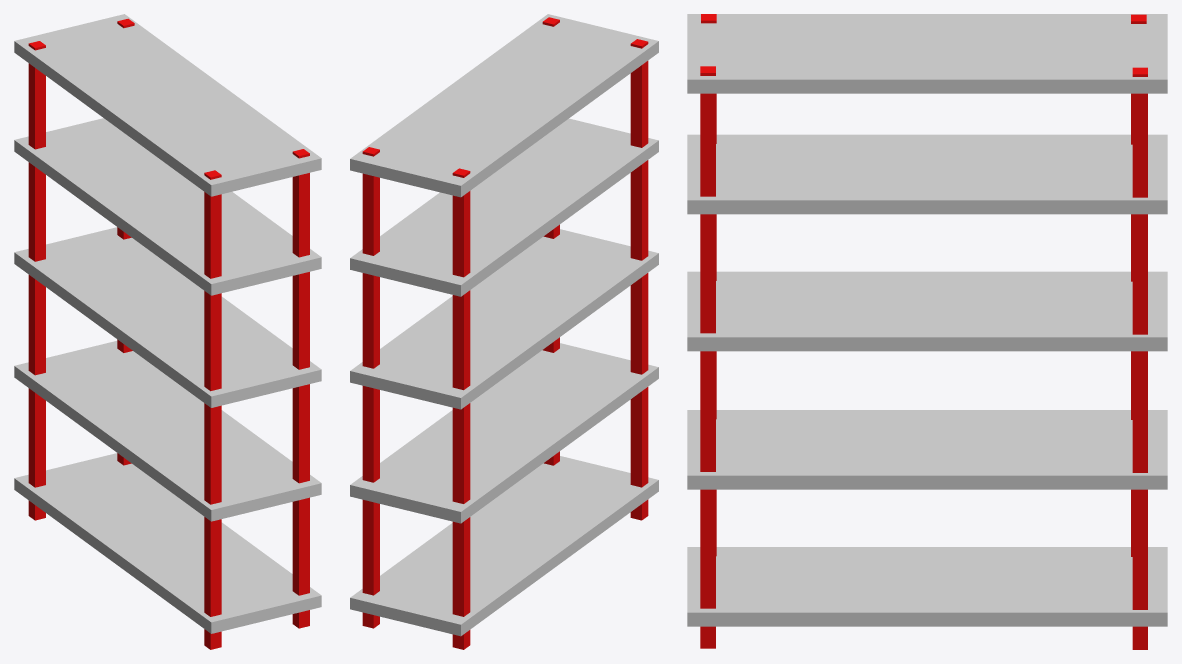
Rendered from cainet.fbx.
The picture shows the model from 3 angles, left to right: view 1: azimuth 30°, elevation 25°; view 2: azimuth 150°, elevation 25°; view 3: azimuth 270°, elevation 25°; orthographic projection. The views are drawn at different scales.
Parts seen in each view (by area): view 1: Box007; view 2: Box007; view 3: Box007.
Boxes of the visible parts, x1,y1,x2,y2 form: Box007: [14, 14, 321, 649]; Box007: [350, 14, 658, 649]; Box007: [687, 14, 1167, 649].
Bounding box in the file's own units: 50 × 204 × 155.
